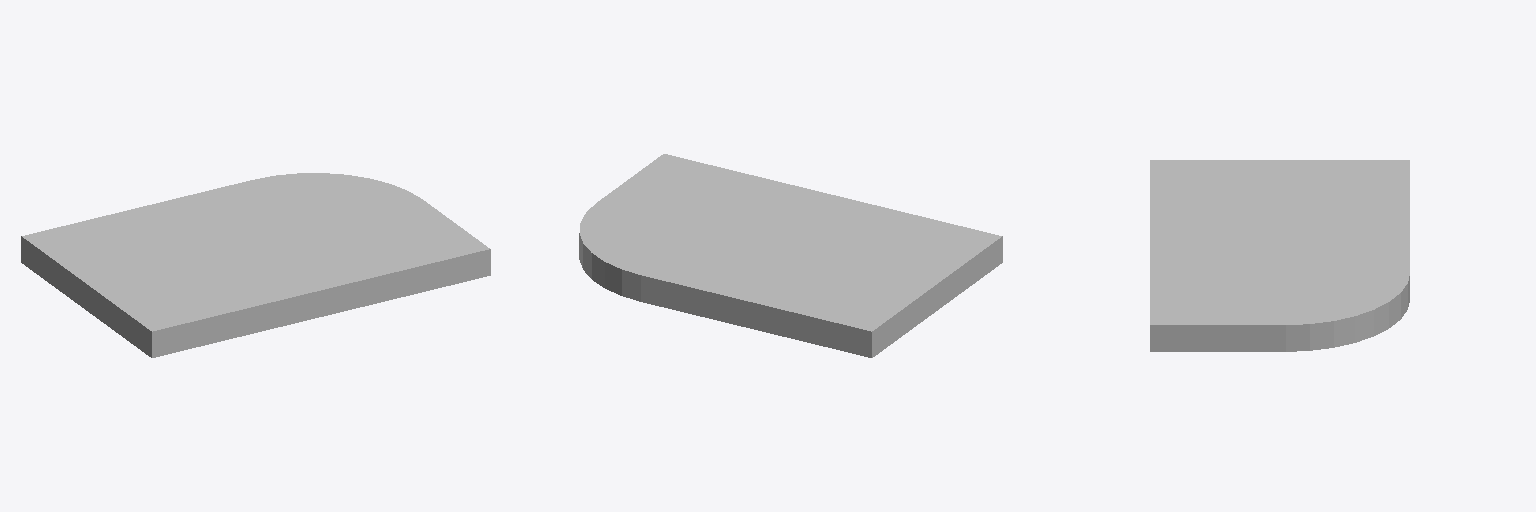
Rendered from CurbCorner1.obj.
3 renders of one model, left to right at view 1: azimuth 30°, elevation 25°; view 2: azimuth 150°, elevation 25°; view 3: azimuth 270°, elevation 25°, orthographic.
Parts seen in each view (by area): view 1: CurbCorner1; view 2: CurbCorner1; view 3: CurbCorner1.
Boxes of the visible parts, <box> form: CurbCorner1: <box>21,173,490,357</box>; CurbCorner1: <box>579,154,1002,357</box>; CurbCorner1: <box>1150,160,1409,351</box>.
Size of the model in its own units: 1.5 by 0.113 by 1.